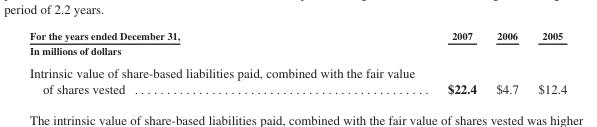table: (28, 29, 566, 95)
table column: (28, 29, 430, 95), (430, 29, 485, 95), (485, 29, 527, 95), (527, 29, 566, 95)
table column header: (28, 29, 566, 42)
table projected row header: (28, 42, 566, 61)
table row: (28, 61, 566, 95), (28, 42, 566, 61), (28, 29, 566, 42)
